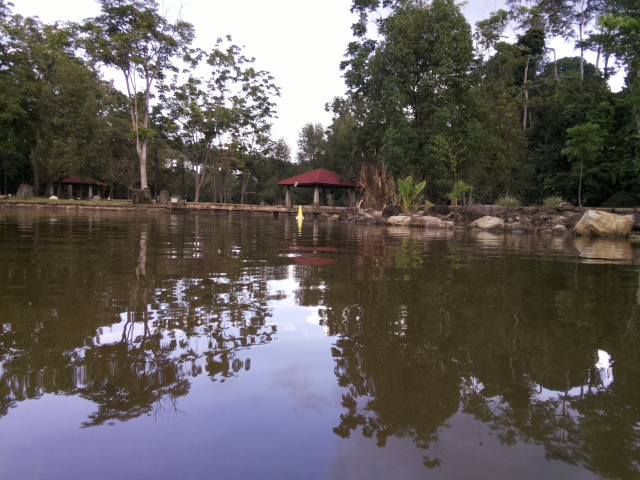checkpoint: (294, 204, 306, 221)
